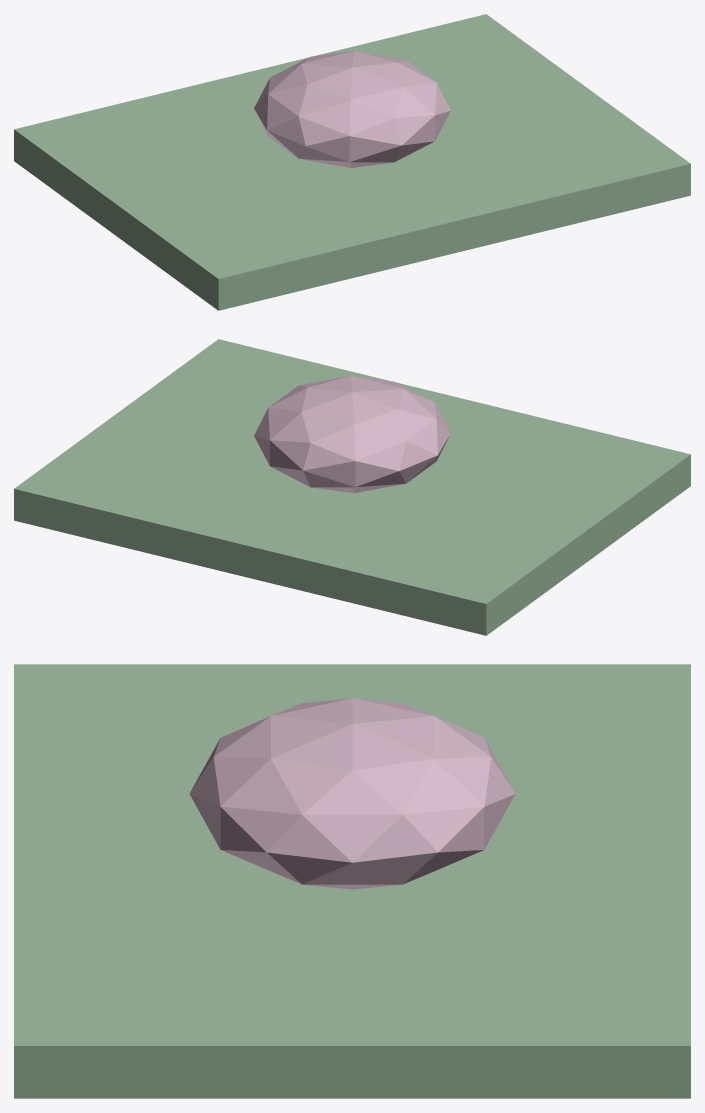
The model's file is lotus_pad.glb.
The picture shows the model from 3 angles, top to bottom: view 1: azimuth 30°, elevation 25°; view 2: azimuth 150°, elevation 25°; view 3: azimuth 270°, elevation 25°; orthographic projection. The views are drawn at different scales.
Parts seen in each view (by area): view 1: world; view 2: world; view 3: world.
Boxes of the visible parts, <box> form: world: <box>14,14,690,310</box>; world: <box>14,339,690,635</box>; world: <box>14,664,690,1098</box>.
Bounding box in the file's own units: 2.8 × 0.6292 × 2.1.
